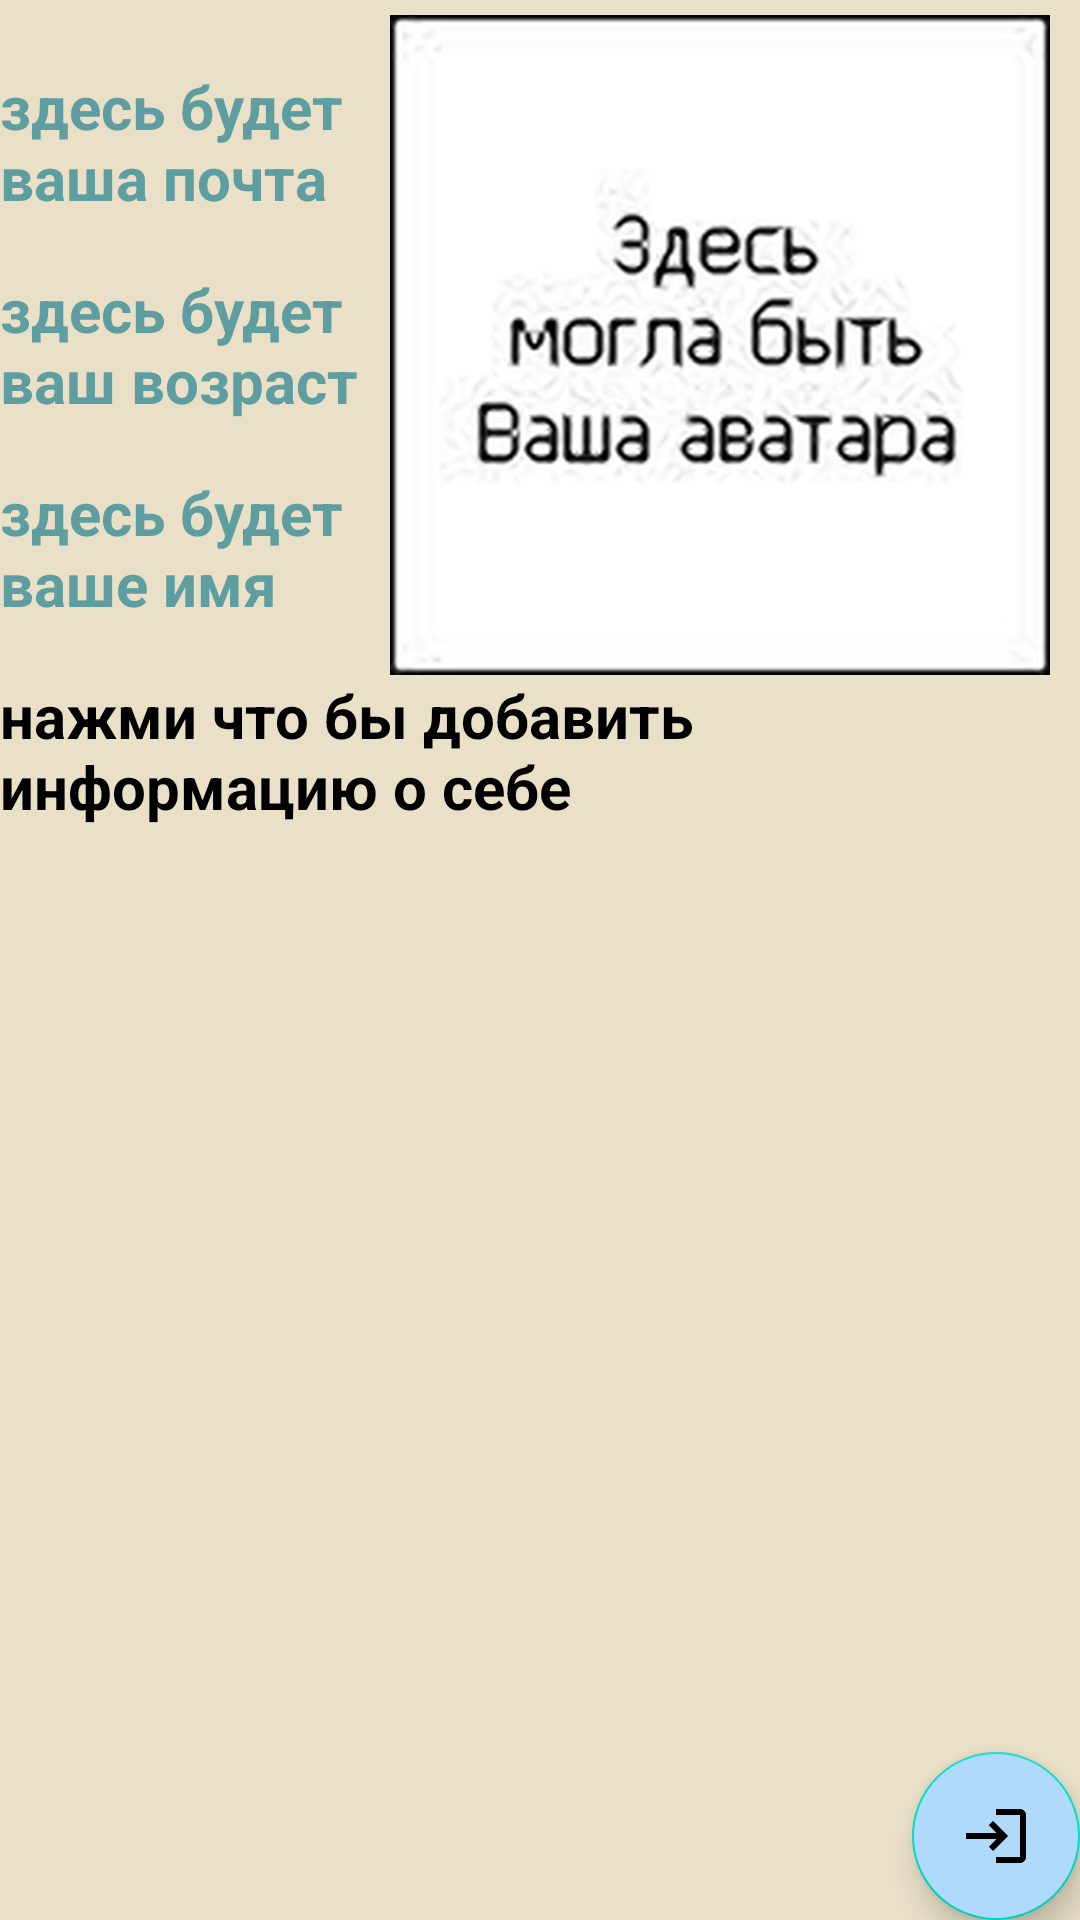

Icon bounding boxes for this 1080px×1920px phone screenshot, format (x1, y1, x2, y2):
login: (912, 1752, 1080, 1920)
